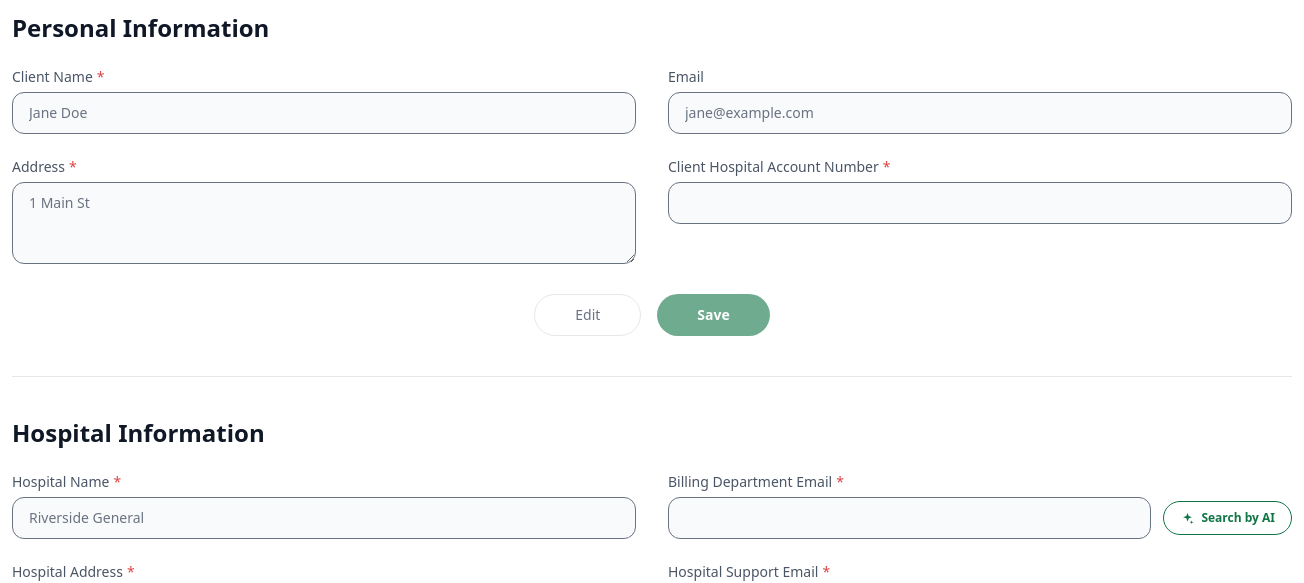
Test: CaseInformationStep › says so when no address could be found
The width and height of the screenshot is (1304, 583).
What coordinates should you click on to do the following:
click the 1st button "Search by AI"
I would click on:
 (1228, 518)
Its box is [1163, 501, 1292, 535].
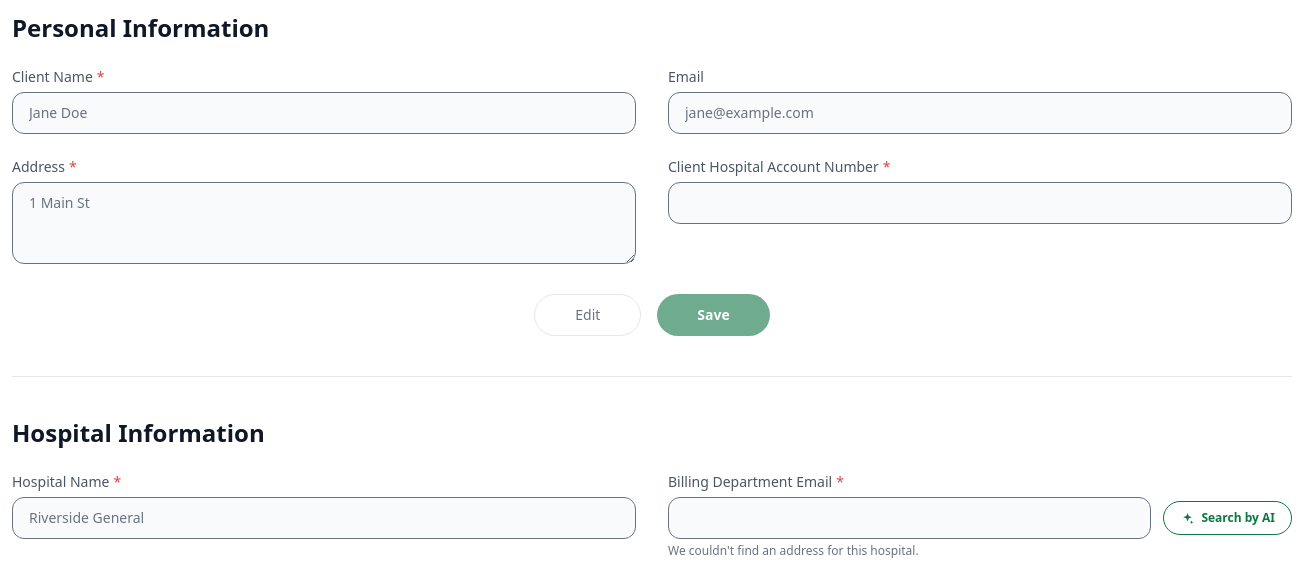
Now the text "We couldn't find an address for this hospital." is shown, box [668, 542, 919, 559]
